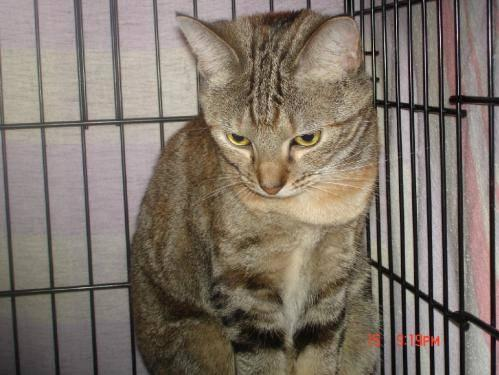cat: (130, 9, 379, 374)
